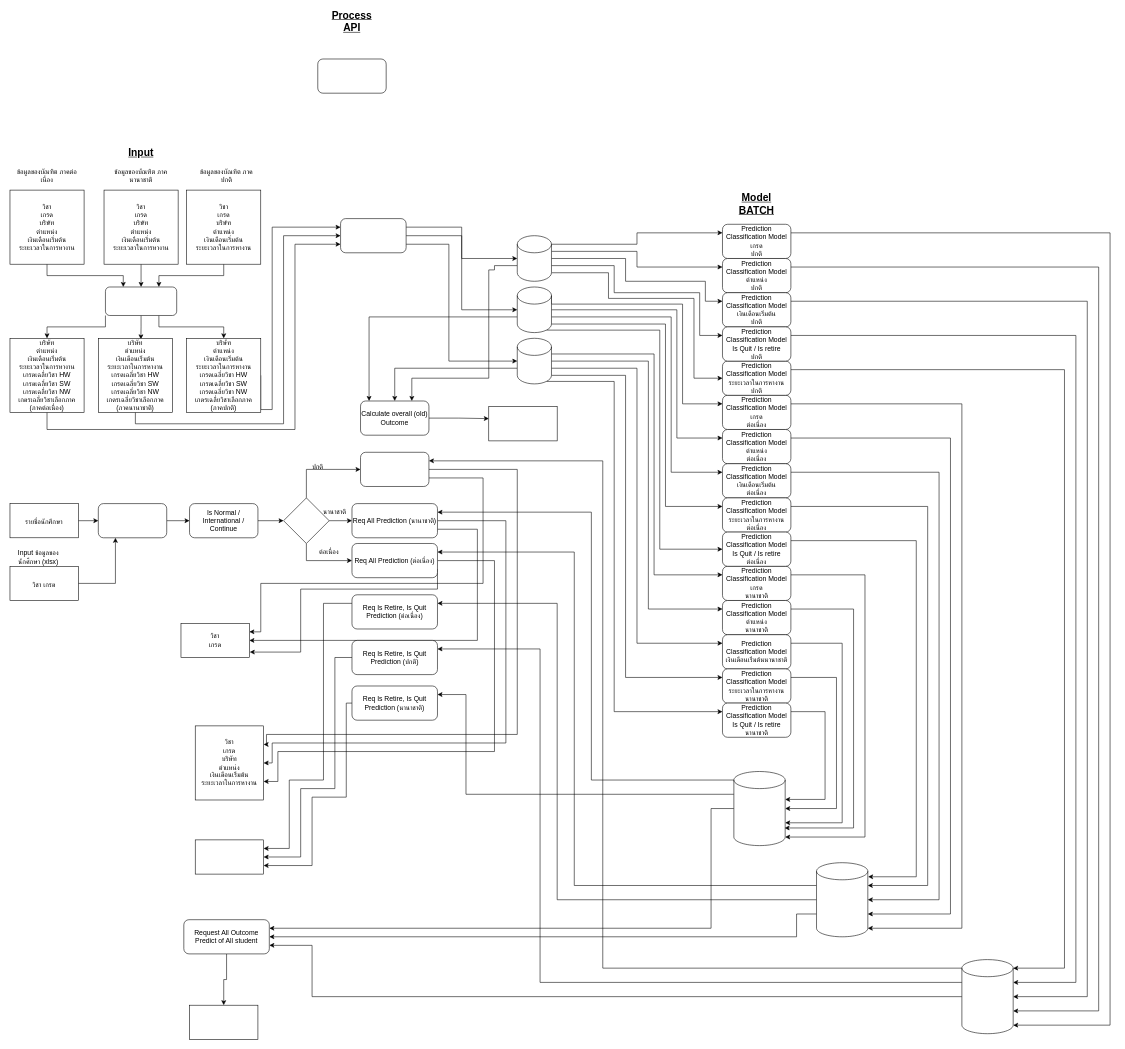
Some shapes in this 1125 by 1049 pixel diagram are drawn without their labels. Here are the shapes that lost their labels. From the top down, the centre of each, then its label:
pixel 351 75: Process Count Group
pixel 373 235: Add / Update /Edit to Database
pixel 141 300: Subject Group
pixel 522 423: บริษัท ตำแหน่ง เงินเดือน
pixel 394 469: Req All Prediction (ปกติ)
pixel 132 520: Req All Prediction Handler
pixel 229 856: ลาออก เรียนไม่จบ
pixel 223 1022: เกรด ตำแหน่ง เงินเดือนเริ่มต้น
